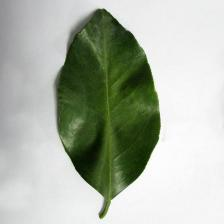healthy: (52, 11, 155, 201)
